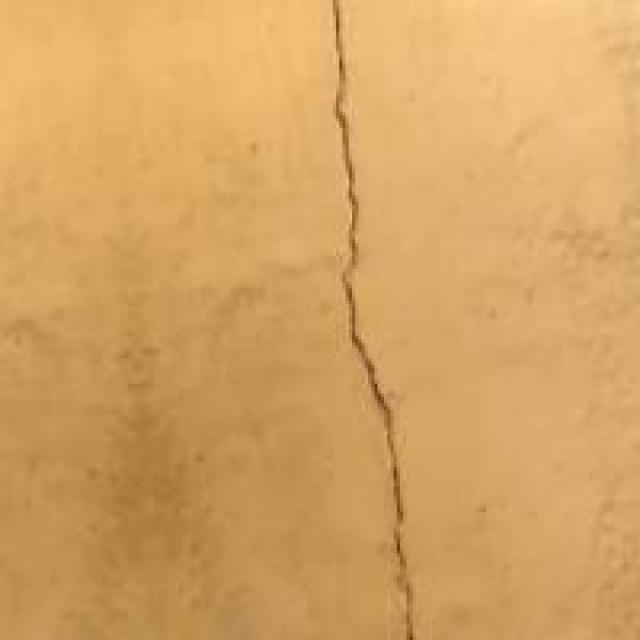crack: (266, 0, 458, 637)
